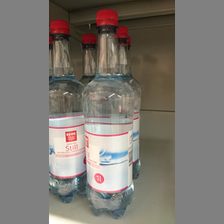water: (83, 8, 135, 219), (50, 20, 87, 205)
